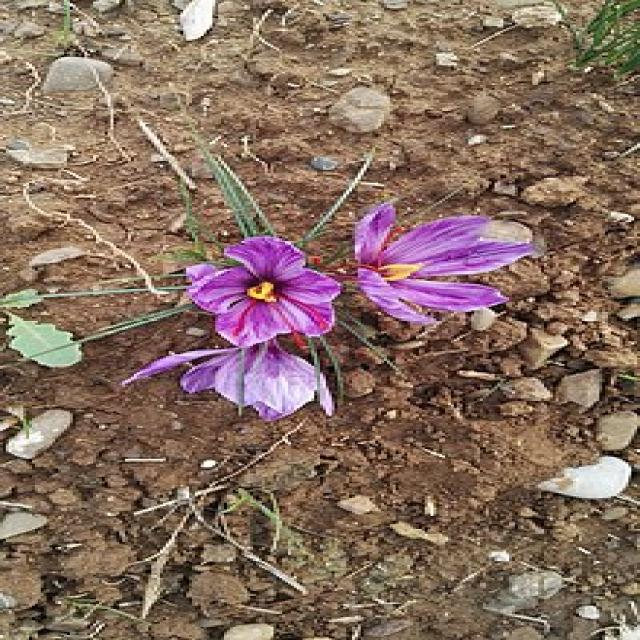saffron open: (354, 204, 532, 324), (187, 236, 341, 348)
